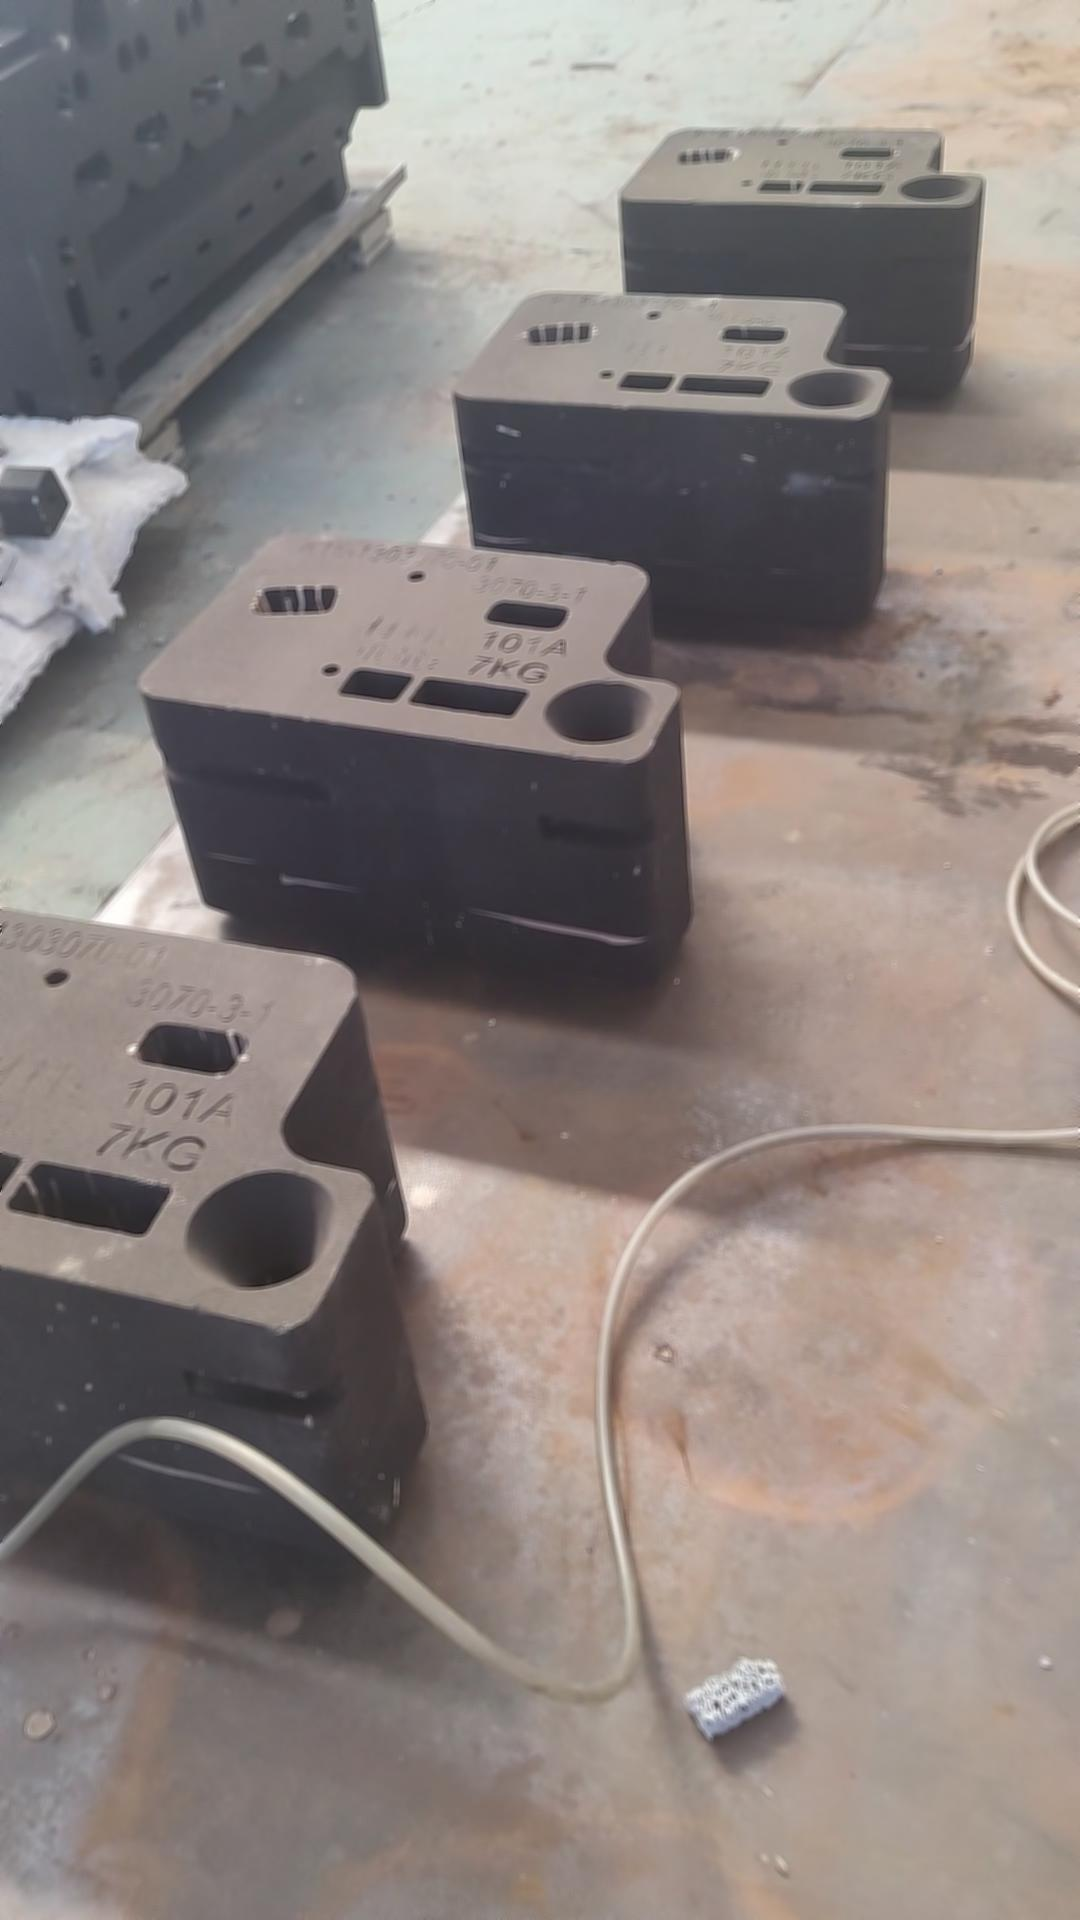pouring hole: (185, 1170, 338, 1290), (542, 679, 651, 742), (787, 369, 876, 409), (67, 1, 111, 55), (899, 174, 968, 200)
